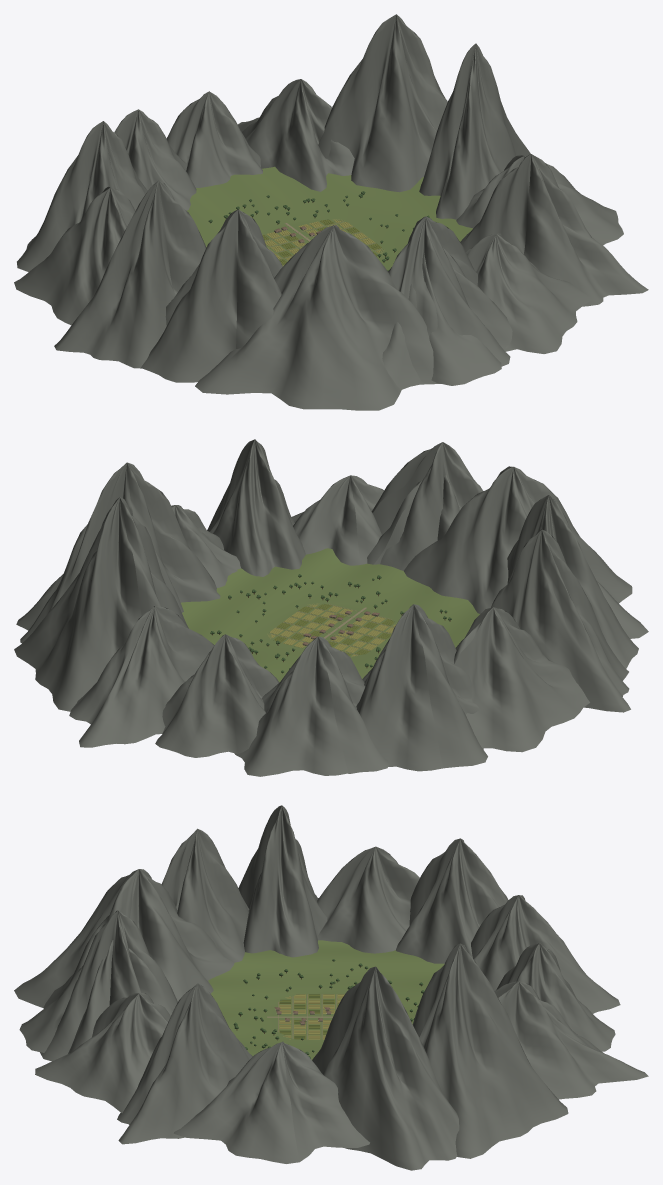
Rendered from shinovar.glb.
The picture shows the model from 3 angles, top to bottom: view 1: azimuth 30°, elevation 25°; view 2: azimuth 150°, elevation 25°; view 3: azimuth 270°, elevation 25°; orthographic projection. The views are drawn at different scales.
Parts seen in each view (by area): view 1: Shinovar_v2_stone; view 2: Shinovar_v2_stone; view 3: Shinovar_v2_stone.
Boxes of the visible parts, x1,y1,x2,y2 form: Shinovar_v2_stone: [14, 14, 648, 410]; Shinovar_v2_stone: [14, 439, 648, 776]; Shinovar_v2_stone: [14, 805, 648, 1170].
Size of the model in its own units: 1807 by 536 by 1838.
